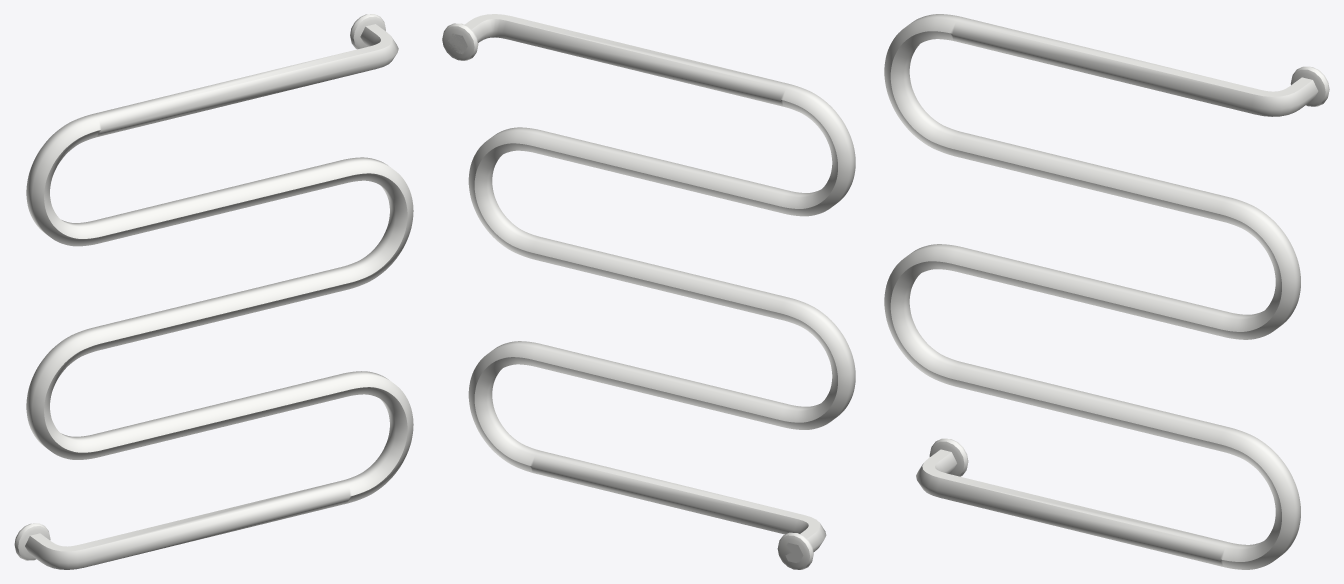
Rendered from toalheiro_serpentina_branco.glb.
3 views of the same model, side by side, from view 1: azimuth 30°, elevation 25°; view 2: azimuth 150°, elevation 25°; view 3: azimuth 330°, elevation 25° (orthographic). The views are drawn at different scales.
Parts seen in each view (by area): view 1: toalheiro_serpentina_branco; view 2: toalheiro_serpentina_branco; view 3: toalheiro_serpentina_branco.
Boxes of the visible parts, left/top/right/bottom form: toalheiro_serpentina_branco: left=14, top=14, right=413, bottom=569; toalheiro_serpentina_branco: left=442, top=14, right=855, bottom=569; toalheiro_serpentina_branco: left=884, top=14, right=1329, bottom=569.
Bounding box in the file's own units: 0.5254 × 0.608 × 0.084.
Materials: 1 (1 with a texture image).
